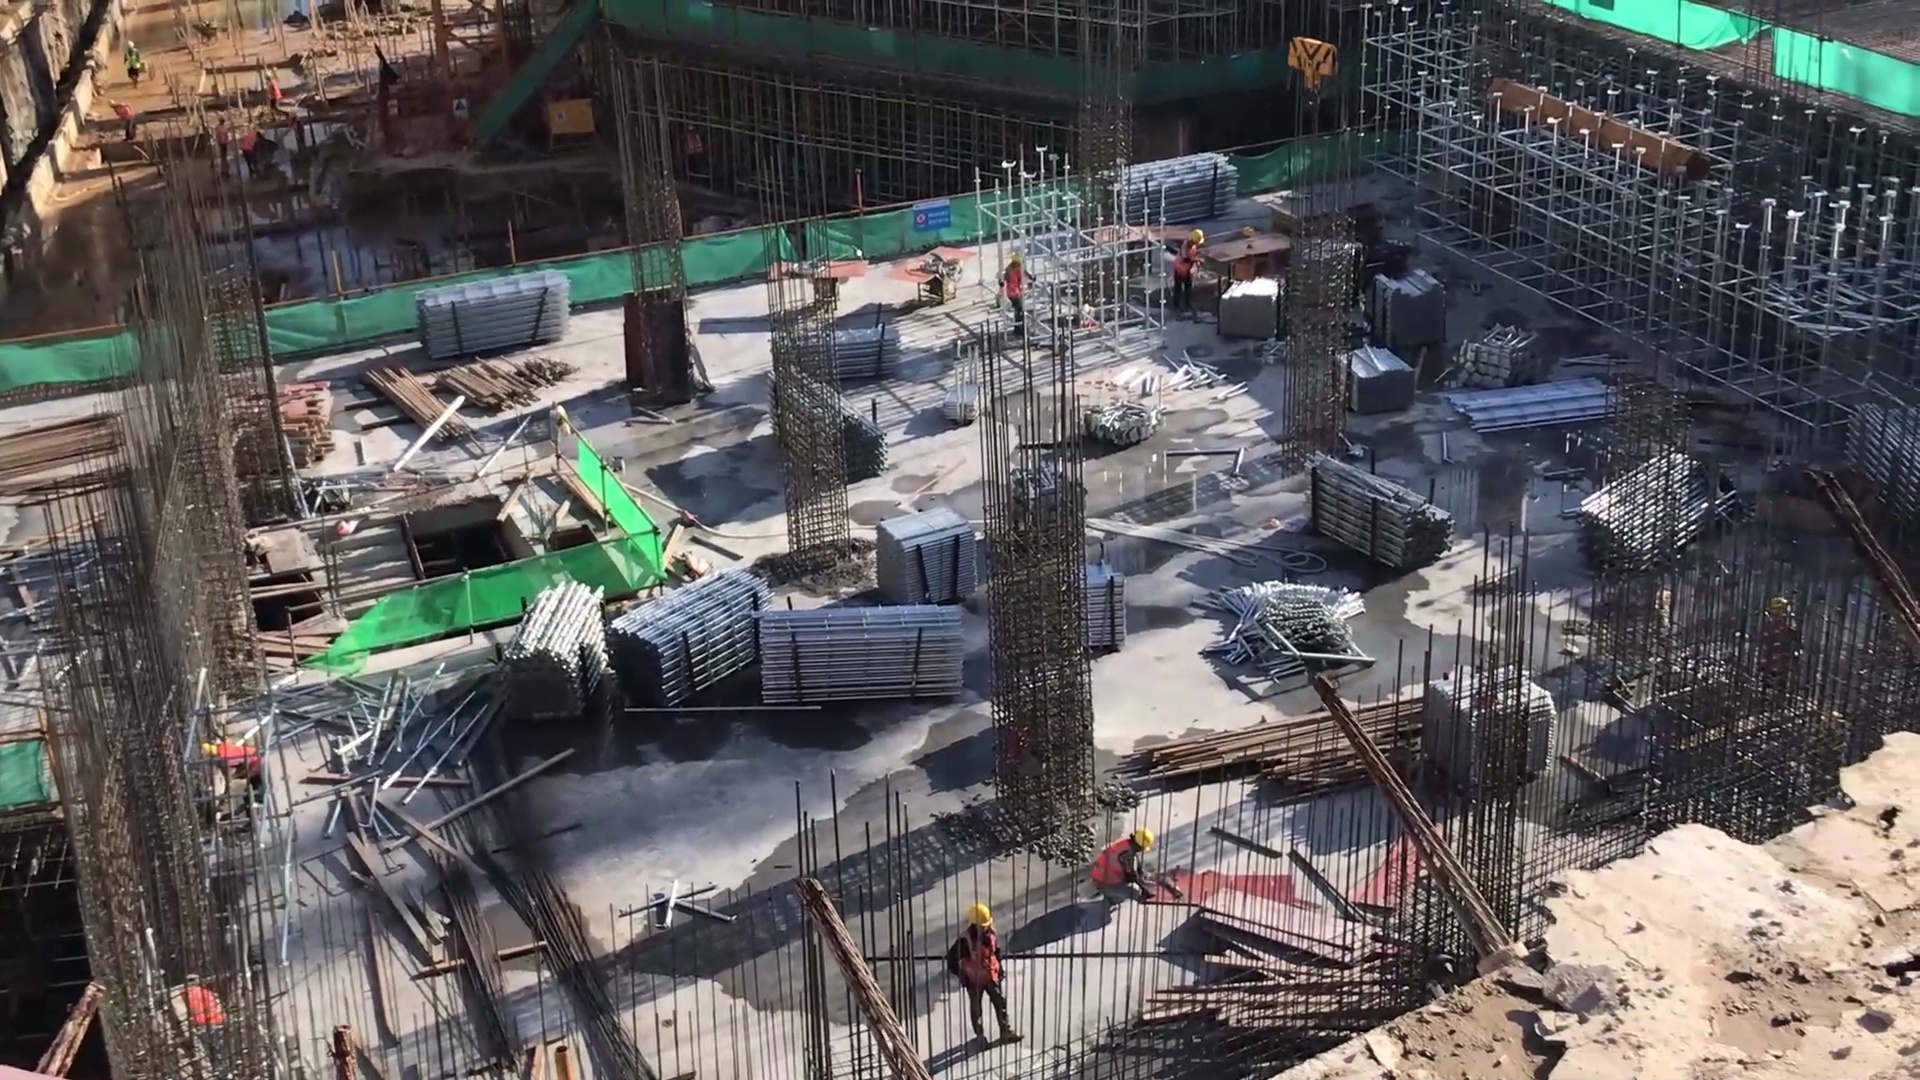cutter: (889, 238, 977, 312), (774, 255, 870, 308)
ebox: (541, 90, 607, 164)
helmet: (955, 902, 1000, 933), (1129, 822, 1155, 858), (197, 738, 220, 773), (1184, 226, 1209, 252), (1008, 247, 1033, 269), (122, 37, 138, 54), (103, 94, 120, 109)
hook: (1279, 28, 1348, 105)
person: (938, 897, 1033, 1054), (1087, 824, 1161, 915), (198, 733, 270, 817), (1162, 222, 1212, 328), (996, 246, 1041, 341), (101, 96, 142, 144), (118, 37, 149, 90)
scaffold: (750, 594, 977, 725), (610, 556, 784, 712), (1298, 443, 1455, 576), (405, 257, 585, 370), (502, 562, 615, 730), (1108, 138, 1258, 235), (869, 491, 977, 615), (1363, 262, 1456, 364), (1337, 344, 1426, 412), (824, 317, 913, 383)
vest: (951, 933, 1008, 990), (1088, 840, 1136, 891), (217, 740, 265, 784), (1001, 264, 1029, 306), (1172, 244, 1201, 282), (116, 99, 137, 131), (123, 53, 143, 75)
